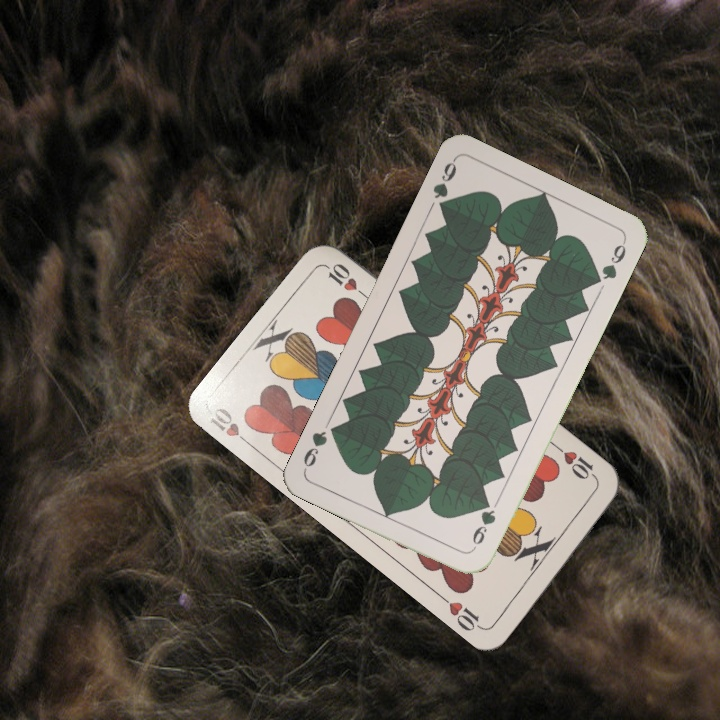G9: (429, 155, 459, 215), (468, 496, 499, 553)
H10: (206, 401, 256, 451), (552, 442, 602, 485)
